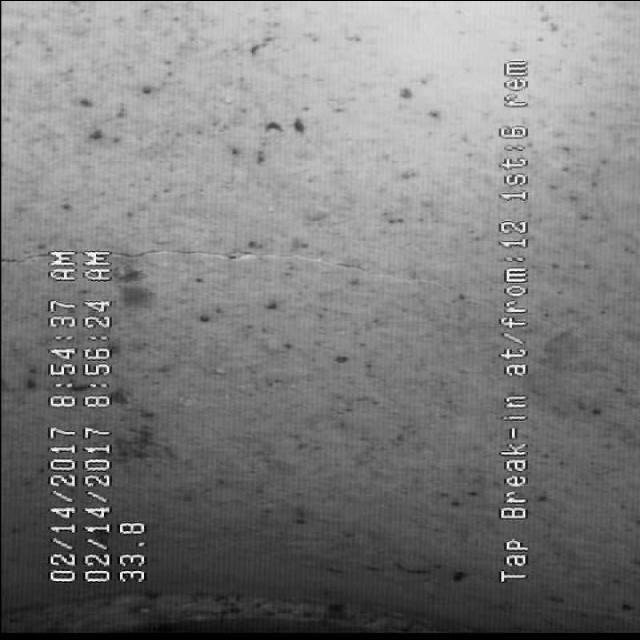Crack: (134, 213, 388, 289)
